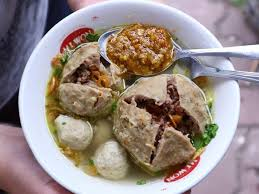bakso: (56, 20, 215, 178)
